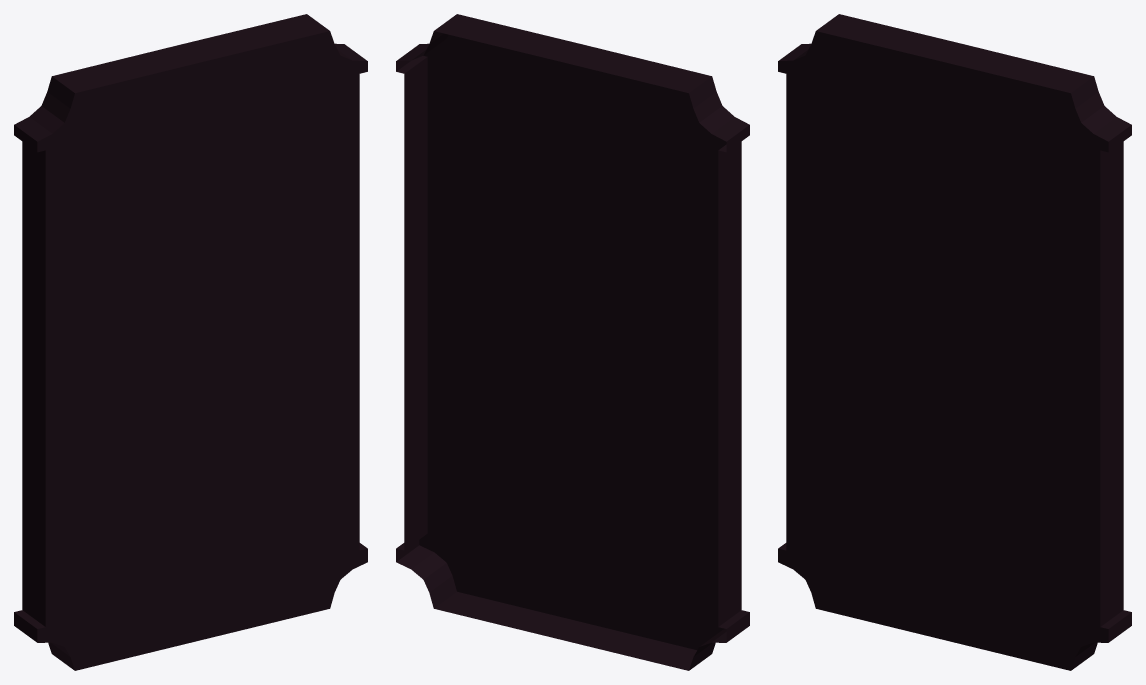
Rendered from PushblockShadow_Tall_01.fbx.
The picture shows the model from 3 angles, left to right: view 1: azimuth 30°, elevation 25°; view 2: azimuth 150°, elevation 25°; view 3: azimuth 330°, elevation 25°; orthographic projection.
Visible parts, largest first — view 1: PushblockShadow_Tall_01.002; view 2: PushblockShadow_Tall_01.002; view 3: PushblockShadow_Tall_01.002.
Part boxes in pixels (x1,y1,x2,y2): PushblockShadow_Tall_01.002: [14, 14, 367, 670]; PushblockShadow_Tall_01.002: [396, 14, 749, 670]; PushblockShadow_Tall_01.002: [778, 14, 1131, 670].
Size of the model in its own units: 322 by 537 by 39.24.
